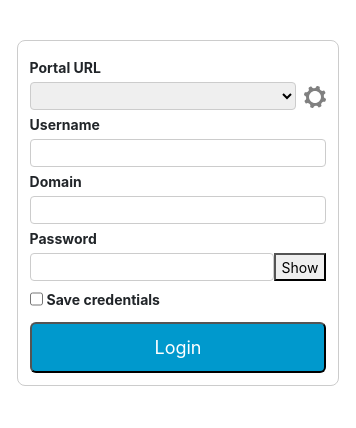
Scenario: Login Container › given the login button is pressed › given the portal url fails to set › should show the failure message
Type "username" into the field named "username" at (178, 153), box [30,139,326,167]
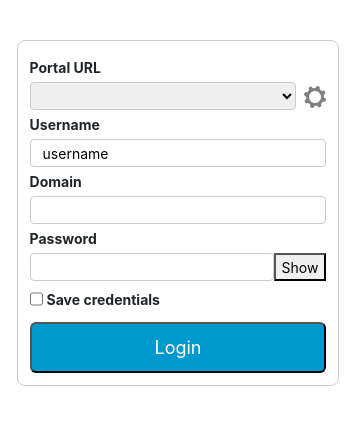
Type "domain" into the field named "domain" at (178, 210), box [30,196,326,224]
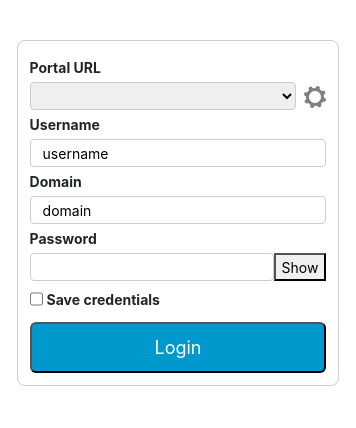
Type "password" into the password field named "password" at (152, 267), box [30,253,274,281]
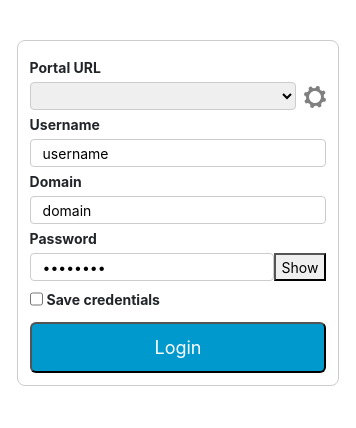
Submit the form with test id "form"
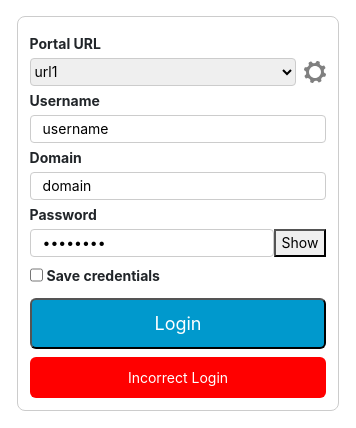
Expected: the text "Incorrect Login" is shown, [30,356,326,398]
